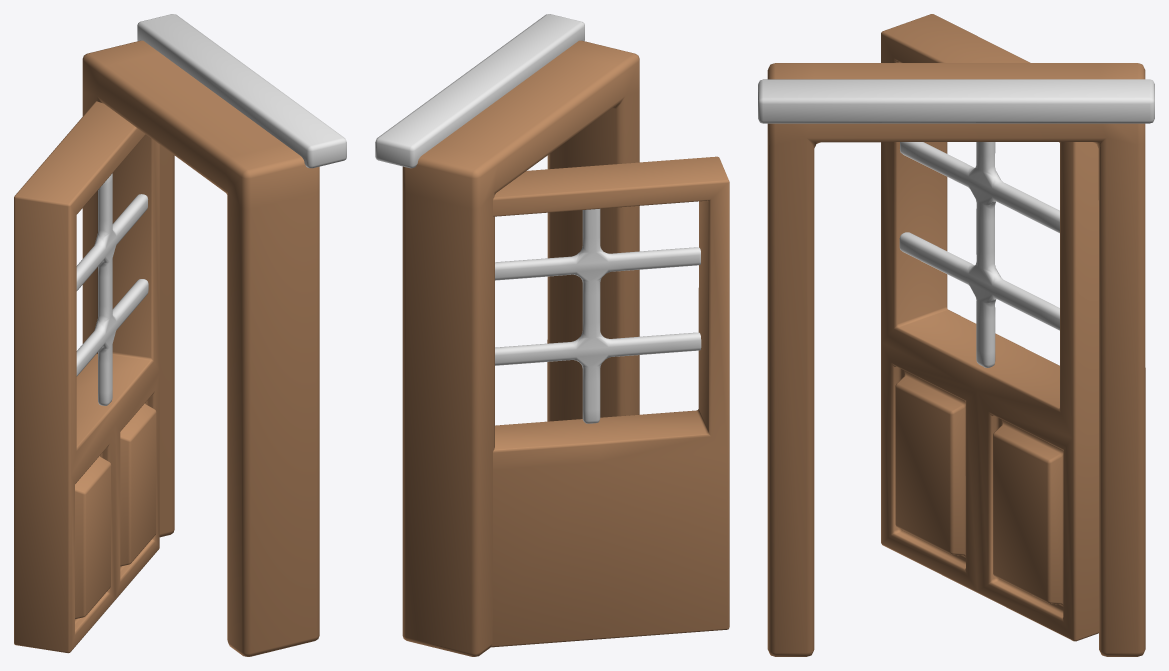
Rendered from Frontdoor.fbx.
The picture shows the model from 3 angles, left to right: view 1: azimuth 30°, elevation 25°; view 2: azimuth 150°, elevation 25°; view 3: azimuth 270°, elevation 25°; orthographic projection. The views are drawn at different scales.
Parts seen in each view (by area): view 1: Frontdoor; view 2: Frontdoor; view 3: Frontdoor.
Part boxes in pixels (bbox=[...]): Frontdoor: bbox=[14, 14, 346, 656]; Frontdoor: bbox=[375, 14, 729, 656]; Frontdoor: bbox=[758, 14, 1154, 656].
Bounding box in the file's own units: 91.04 × 169 × 106.
3 materials, 1 textured.
